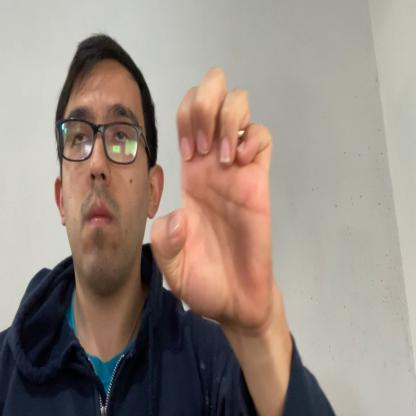E: (150, 64, 273, 330)
